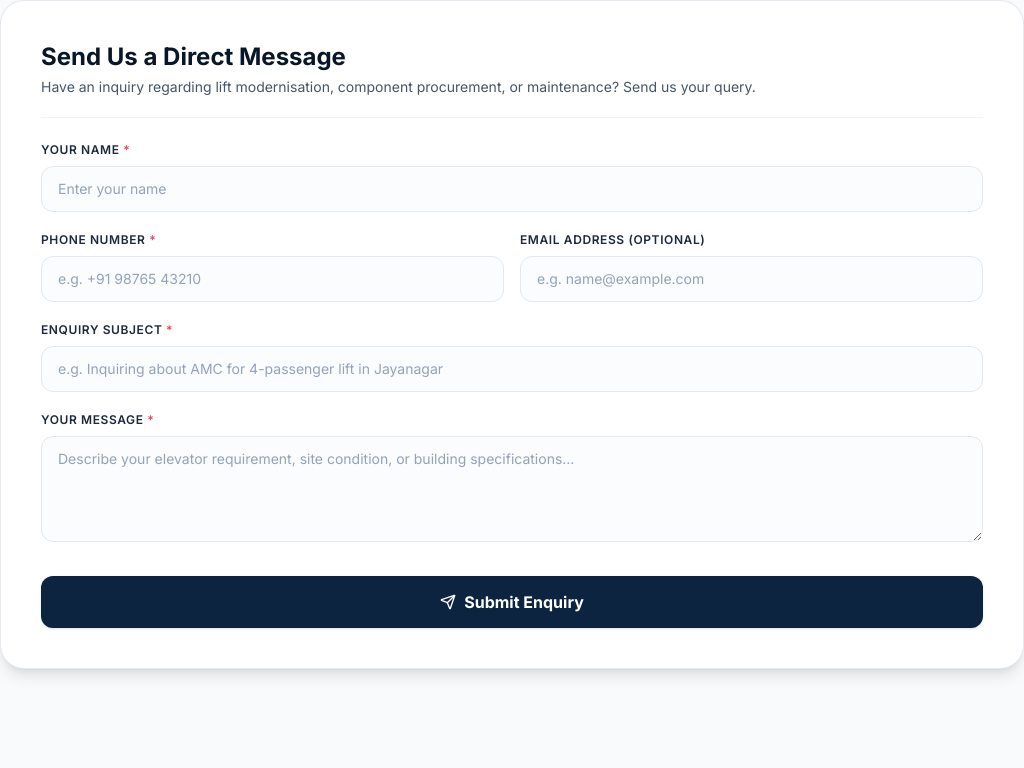
Test: ContactForm Component › displays validation errors on empty submit
Click the button "Submit Enquiry".
click(512, 602)  # box [41, 576, 983, 628]
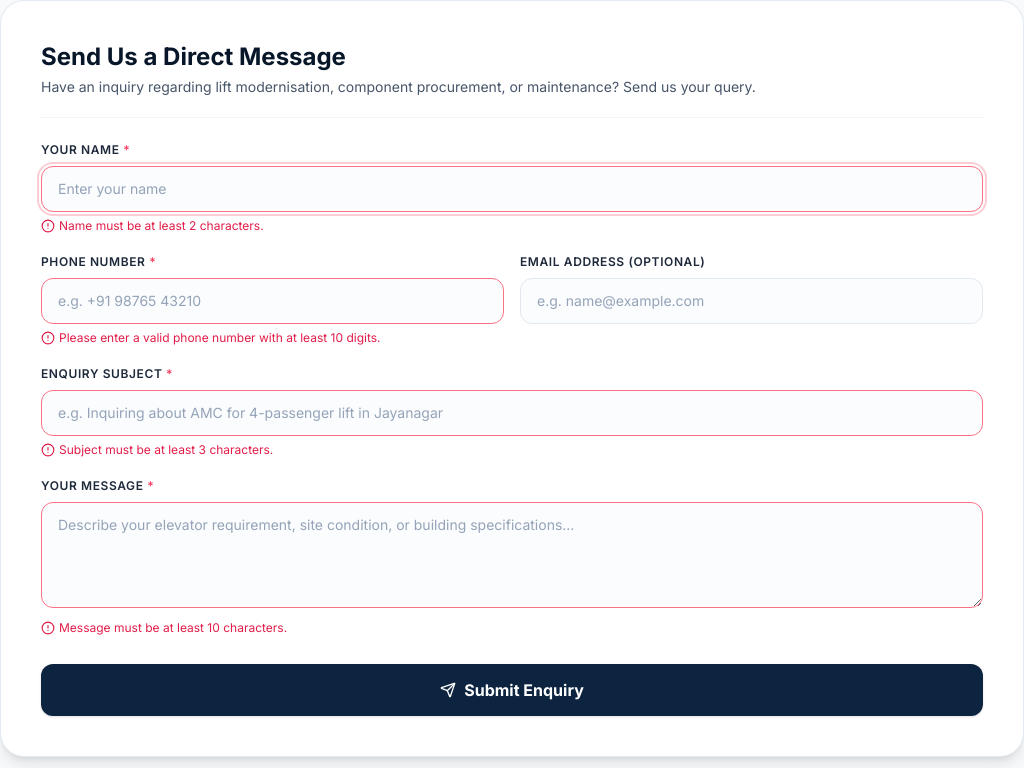
Expected: the text "Name must be at least 2 characters." is shown, [59, 218, 264, 234]
Expected: the text "Please enter a valid phone number with at least 10 digits." is shown, [59, 330, 380, 346]
Expected: the text "Subject must be at least 3 characters." is shown, [59, 442, 273, 458]
